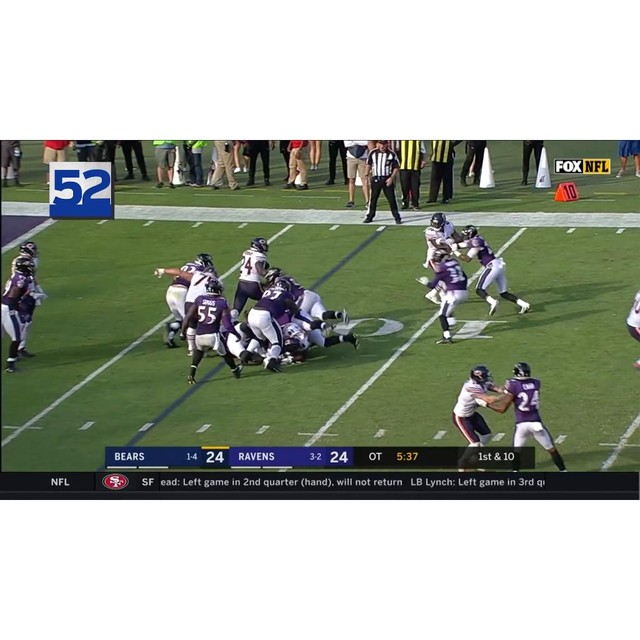american-football-player: (498, 361, 567, 473), (267, 265, 358, 343), (460, 225, 530, 318), (183, 278, 242, 386), (452, 366, 507, 470), (240, 276, 297, 372), (159, 253, 213, 348), (0, 258, 38, 375), (424, 244, 468, 345), (231, 237, 272, 319)
referee: (362, 140, 404, 225)
